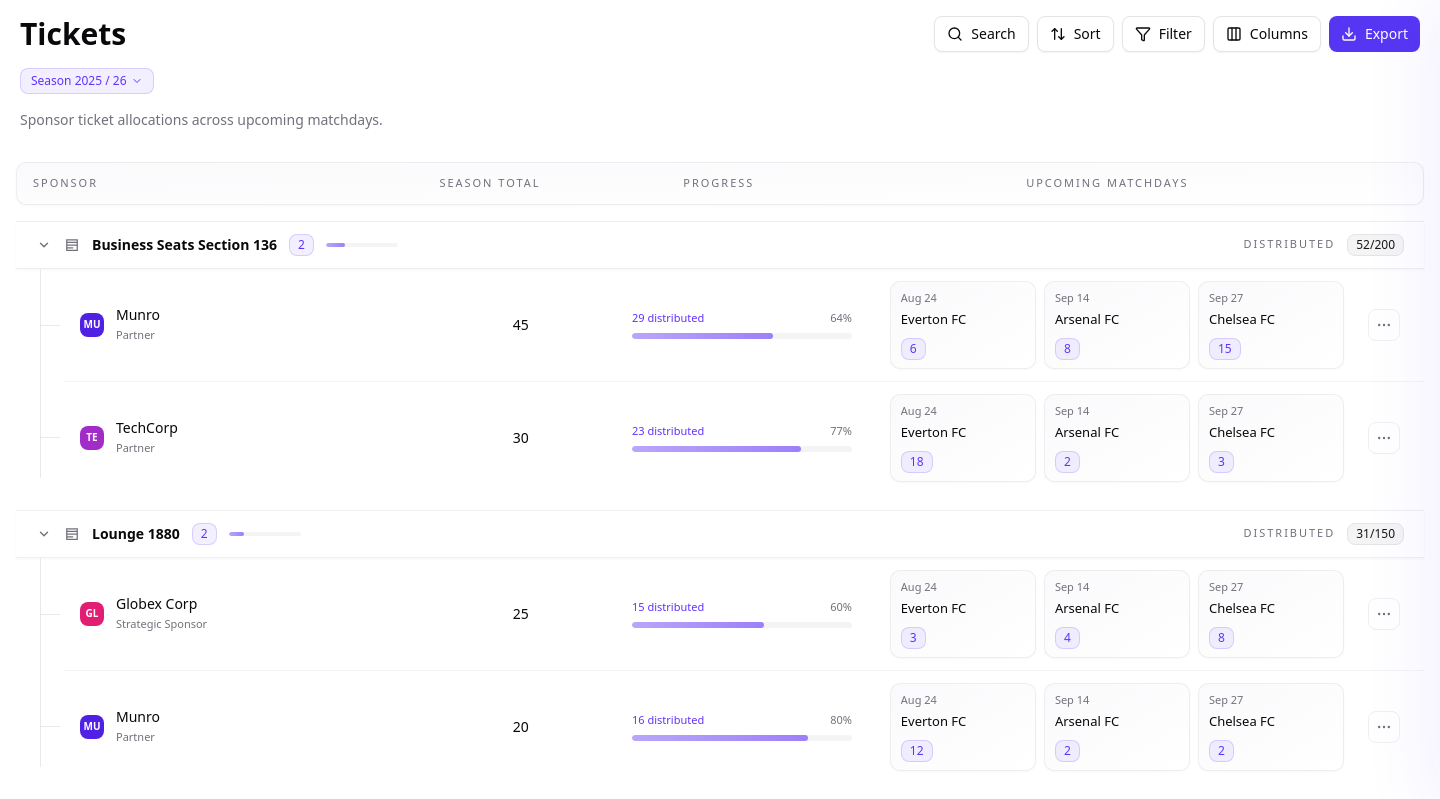
Scenario: TicketingWehaveioV2Screen › renders an empty state when the search removes all sponsors
Click the button "Search" at (981, 34), box 934,16 -> 1029,52
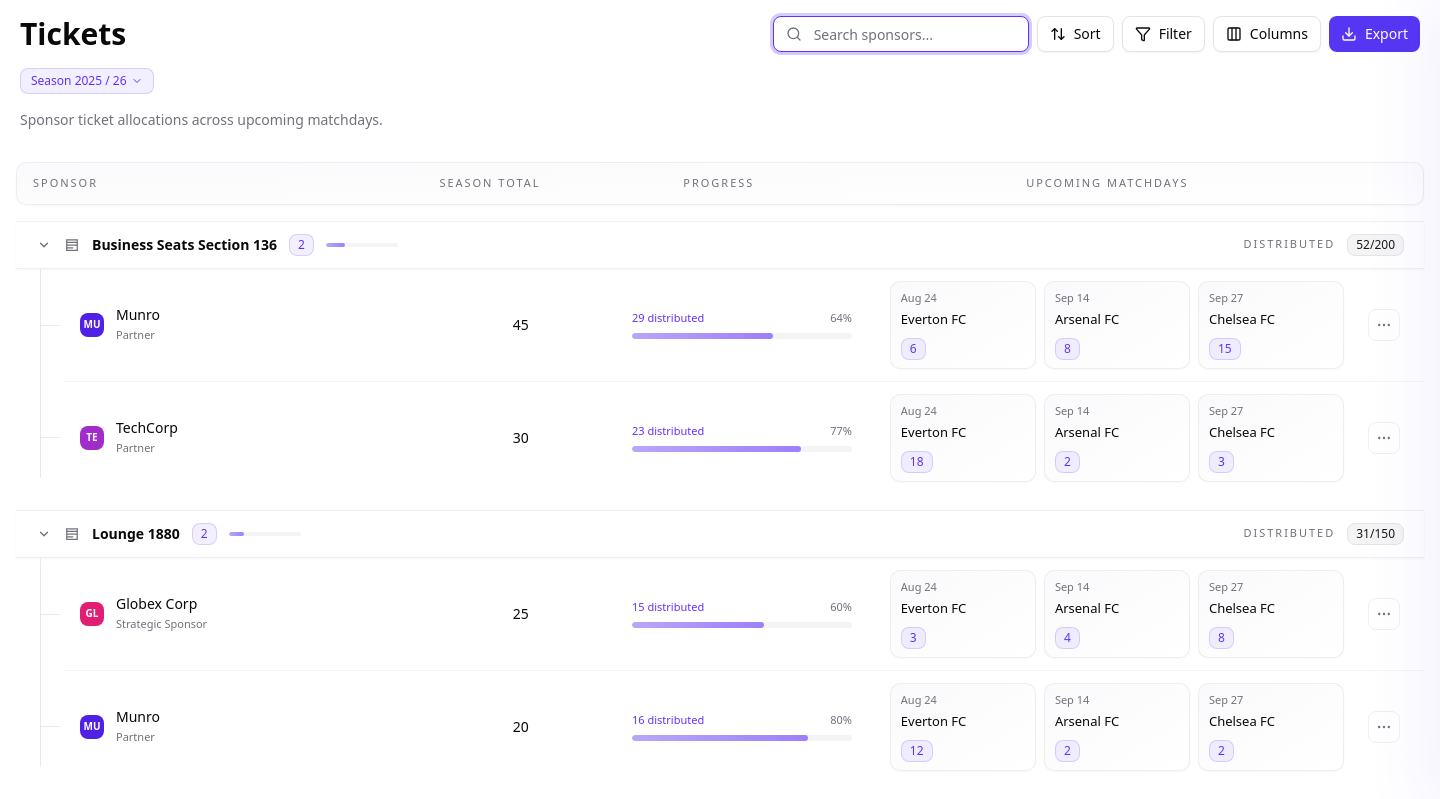
Type "NoMatch" into the field with placeholder "Search sponsors..." at (901, 34), box 786,25 -> 1016,43
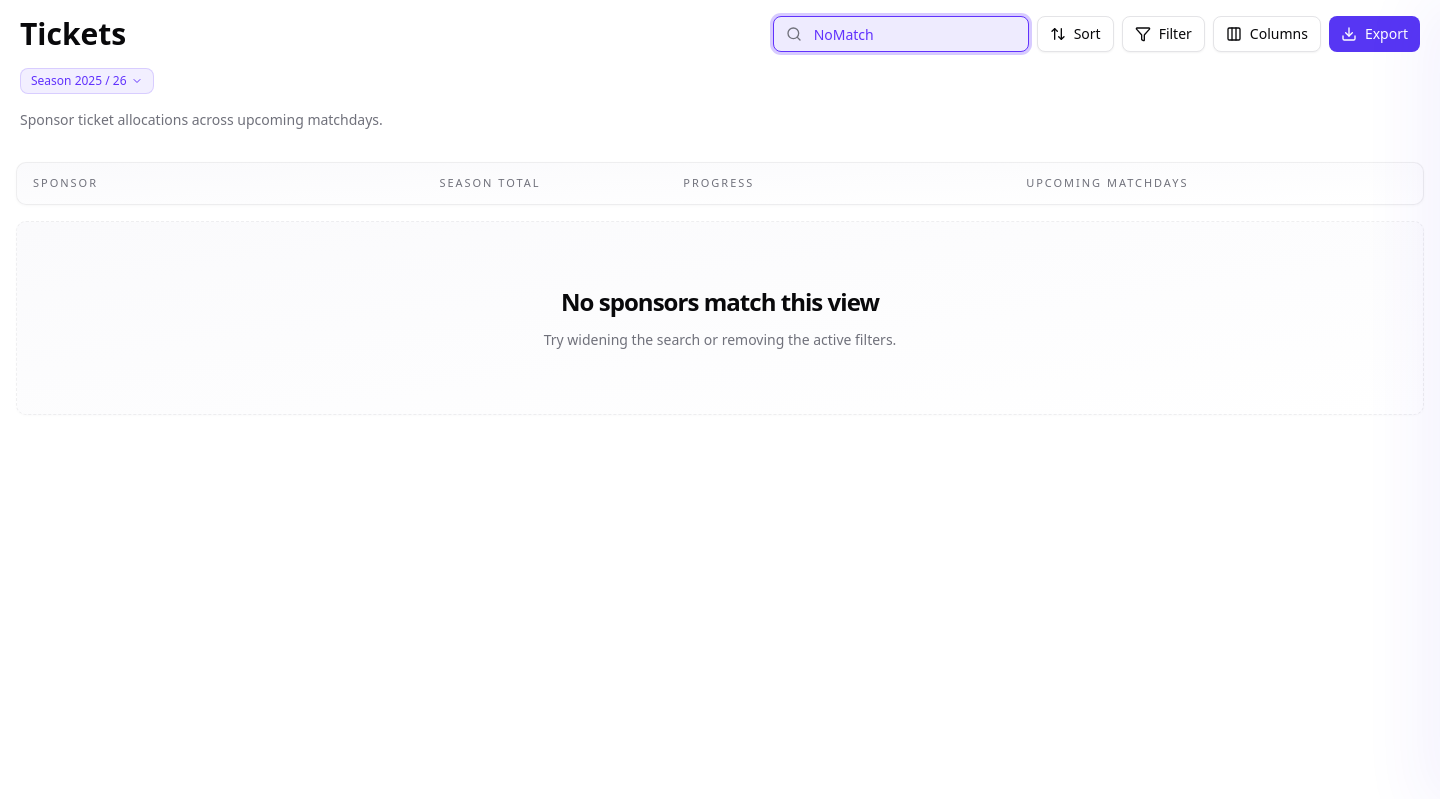
Result: the text "No sponsors match this view" is shown at 561,284 -> 879,318
